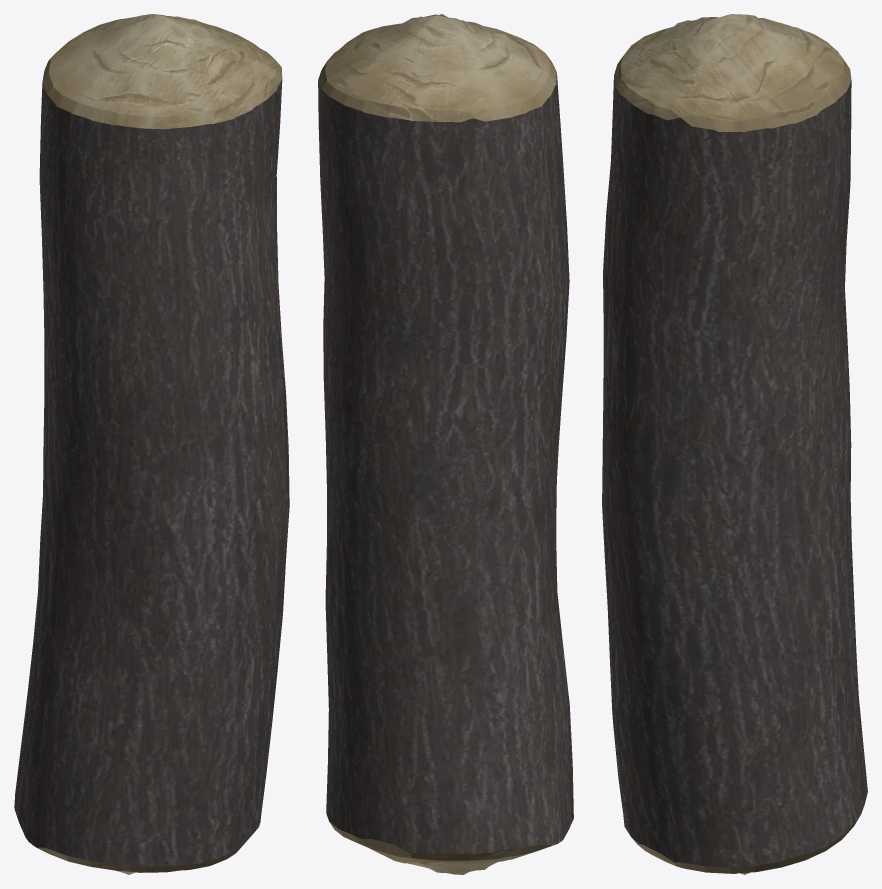
3 renders of one model, left to right at view 1: azimuth 30°, elevation 25°; view 2: azimuth 150°, elevation 25°; view 3: azimuth 270°, elevation 25°, orthographic.
Parts seen in each view (by area): view 1: SM_BM_Oak_Tree_01_quarter_04_LOD0; view 2: SM_BM_Oak_Tree_01_quarter_04_LOD0; view 3: SM_BM_Oak_Tree_01_quarter_04_LOD0.
Boxes of the visible parts, bbox=[...] form: SM_BM_Oak_Tree_01_quarter_04_LOD0: bbox=[14, 14, 289, 874]; SM_BM_Oak_Tree_01_quarter_04_LOD0: bbox=[318, 14, 573, 874]; SM_BM_Oak_Tree_01_quarter_04_LOD0: bbox=[602, 14, 867, 874].
Bounding box in the file's own units: 0.778 × 2.75 × 0.769.
1 material, 1 textured.
